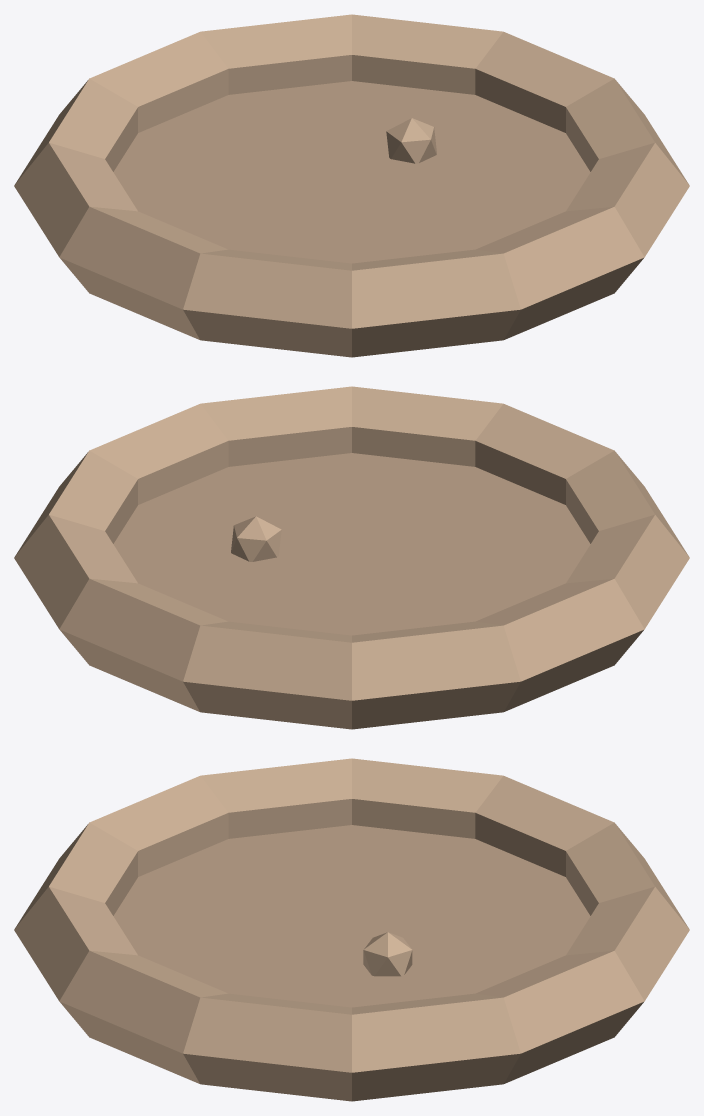
Rendered from MOONSHIFT_ENV_Terrain_Crater.glb.
3 views of the same model, one above another, from view 1: azimuth 30°, elevation 25°; view 2: azimuth 150°, elevation 25°; view 3: azimuth 270°, elevation 25° (orthographic).
Parts seen in each view (by area): view 1: Crater_Rim, Crater_Floor, Crater_Pebble; view 2: Crater_Rim, Crater_Floor, Crater_Pebble; view 3: Crater_Rim, Crater_Floor, Crater_Pebble.
Part boxes in pixels (<box>): Crater_Rim: <box>14,14,689,357</box>; Crater_Floor: <box>113,81,590,263</box>; Crater_Pebble: <box>386,118,436,163</box>; Crater_Rim: <box>14,386,689,729</box>; Crater_Floor: <box>113,453,590,635</box>; Crater_Pebble: <box>231,516,281,561</box>; Crater_Rim: <box>14,758,689,1101</box>; Crater_Floor: <box>113,825,590,1007</box>; Crater_Pebble: <box>363,932,412,976</box>.
Size of the model in its own units: 1.88 by 0.2663 by 1.88.
